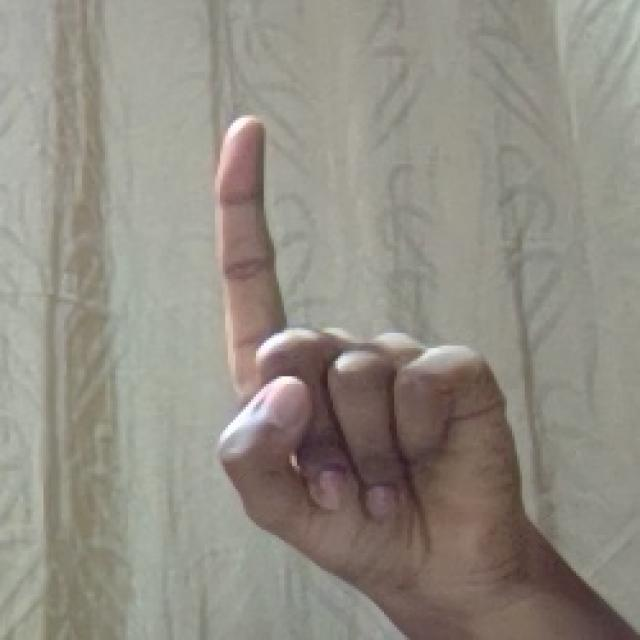Numeric-1: (201, 112, 525, 608)
